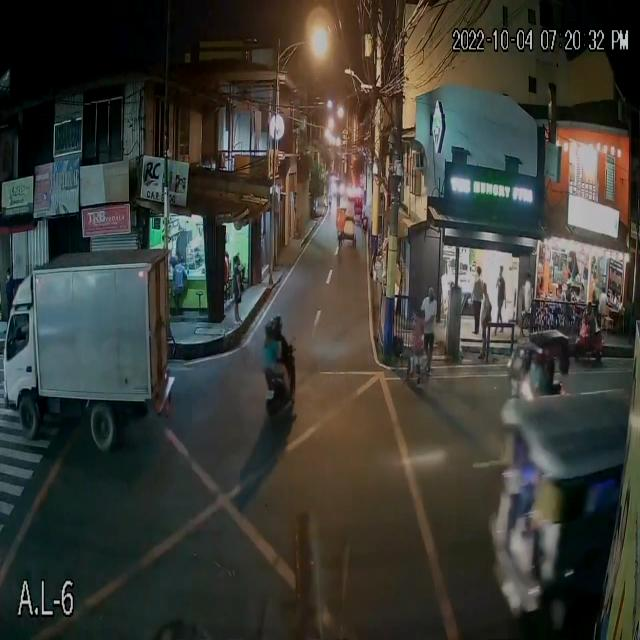Full-Faced: (273, 303, 283, 334), (266, 319, 275, 336)
